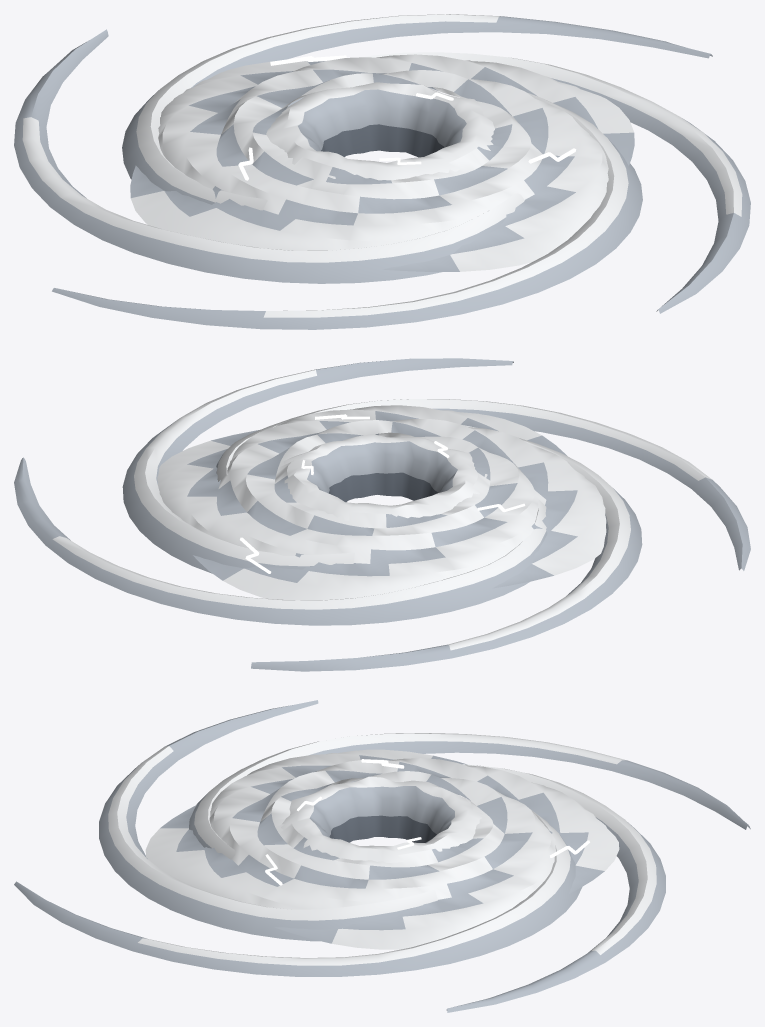
Rendered from hurricane.glb.
3 views of the same model, one above another, from view 1: azimuth 30°, elevation 25°; view 2: azimuth 150°, elevation 25°; view 3: azimuth 270°, elevation 25° (orthographic). The views are drawn at different scales.
Visible parts, largest first — view 1: bands, body; view 2: bands, body; view 3: bands, body.
Boxes of the visible parts, x1,y1,x2,y2 form: bands: (14, 14, 750, 329); body: (266, 82, 494, 180); bands: (14, 358, 750, 671); body: (284, 434, 487, 520); bands: (14, 700, 750, 1012); body: (281, 776, 482, 862).
Size of the model in its own units: 575 by 38.97 by 575.
